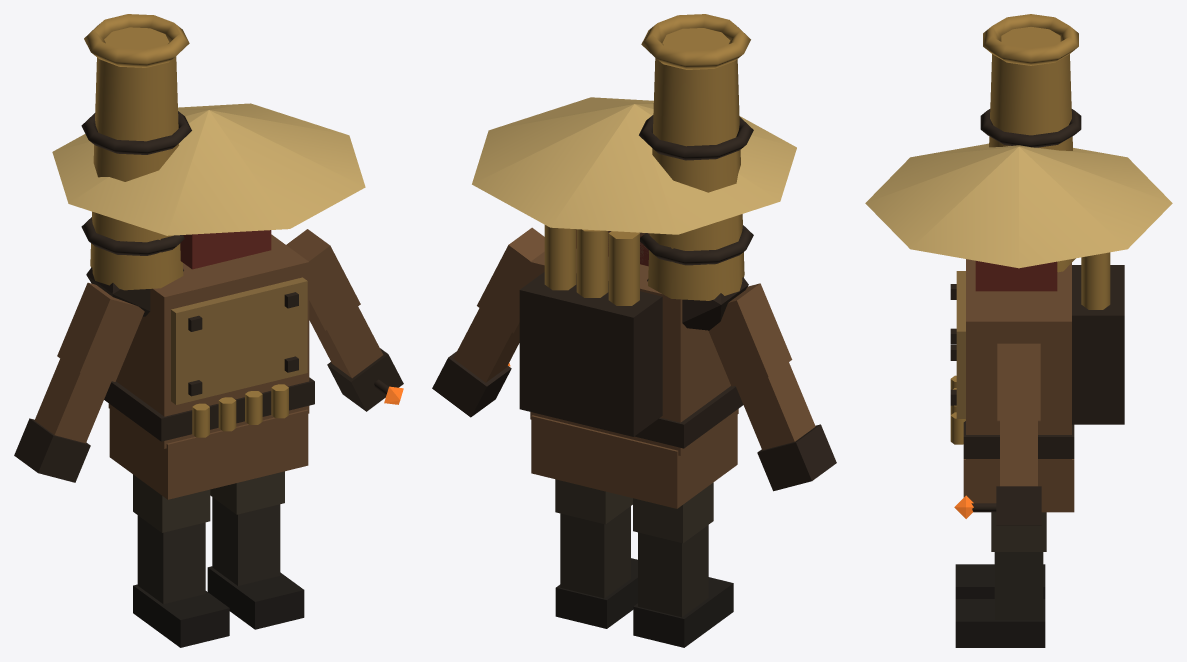
Rendered from BO_SK_Enemy_Mortar_v001.glb.
3 renders of one model, left to right at view 1: azimuth 30°, elevation 25°; view 2: azimuth 150°, elevation 25°; view 3: azimuth 270°, elevation 25°, orthographic. The views are drawn at different scales.
Parts seen in each view (by area): view 1: body_011, attachment_035, body_021, body_006, body_041, body_018, body_001, body_004, body_019, body_005, body_002, body_026 (+15 smaller); view 2: body_011, body_031, attachment_035, body_041, body_006, body_001, body_004, body_018, body_019, attachment_038, body_005, body_013 (+13 smaller); view 3: body_011, body_006, body_031, attachment_035, body_002, body_013, body_001, body_041, attachment_038, body_014, body_008, body_026 (+6 smaller).
Part boxes in pixels (left/top/right/bottom): body_011: left=52, top=103, right=365, bottom=235; attachment_035: left=90, top=27, right=183, bottom=290; body_021: left=171, top=277, right=307, bottom=404; body_006: left=108, top=234, right=309, bottom=448; body_041: left=109, top=409, right=308, bottom=499; body_018: left=57, top=282, right=144, bottom=381; body_001: left=212, top=497, right=280, bottom=585; body_004: left=137, top=515, right=205, bottom=604; body_019: left=34, top=358, right=111, bottom=443; body_005: left=133, top=584, right=229, bottom=647; body_002: left=207, top=566, right=304, bottom=629; body_026: left=104, top=377, right=314, bottom=441; body_011: left=472, top=97, right=796, bottom=234; body_031: left=519, top=272, right=662, bottom=436; attachment_035: left=648, top=28, right=744, bottom=300; body_041: left=531, top=414, right=737, bottom=508; body_006: left=530, top=249, right=738, bottom=455; body_001: left=560, top=506, right=630, bottom=598; body_004: left=638, top=525, right=708, bottom=617; body_018: left=708, top=283, right=792, bottom=386; body_019: left=736, top=362, right=815, bottom=450; attachment_038: left=641, top=14, right=750, bottom=69; body_005: left=633, top=577, right=733, bottom=647; body_013: left=477, top=227, right=544, bottom=333; body_011: left=865, top=143, right=1172, bottom=268; body_006: left=966, top=259, right=1071, bottom=465; body_031: left=1072, top=265, right=1124, bottom=424; attachment_035: left=989, top=27, right=1075, bottom=272; body_002: left=955, top=599, right=1045, bottom=647; body_013: left=997, top=343, right=1040, bottom=421; body_001: left=994, top=552, right=1043, bottom=619; body_041: left=963, top=459, right=1074, bottom=512; attachment_038: left=983, top=14, right=1078, bottom=65; body_014: left=1000, top=420, right=1037, bottom=486; body_008: left=975, top=261, right=1057, bottom=291; body_026: left=963, top=421, right=1074, bottom=458.
Bounding box in the file's own units: 1.67 × 2.56 × 1.28.
